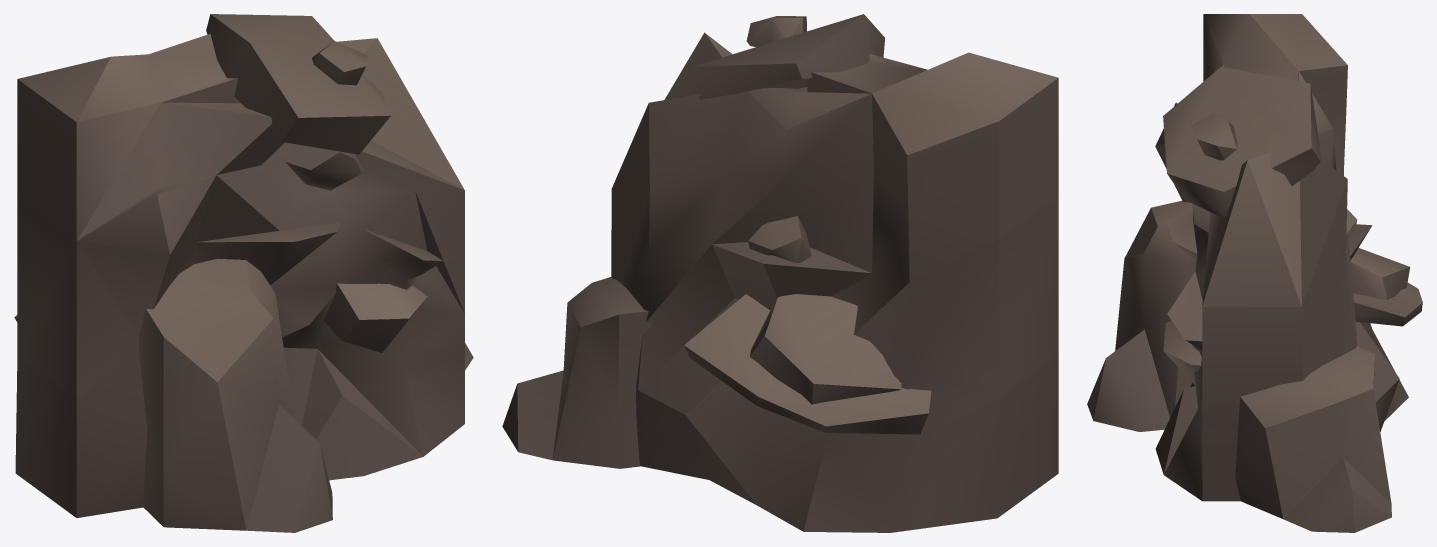
The model's file is rubble.fbx.
3 views of the same model, side by side, from view 1: azimuth 30°, elevation 25°; view 2: azimuth 150°, elevation 25°; view 3: azimuth 270°, elevation 25° (orthographic). The views are drawn at different scales.
Parts seen in each view (by area): view 1: rubble_half; view 2: rubble_half; view 3: rubble_half.
Part boxes in pixels (box(x1,y1,x2,y2)): rubble_half: box(14, 14, 473, 532); rubble_half: box(502, 14, 1058, 532); rubble_half: box(1087, 14, 1422, 532).
Bounding box in the file's own units: 400 × 350 × 300.
Materials: 1 (1 with a texture image).
